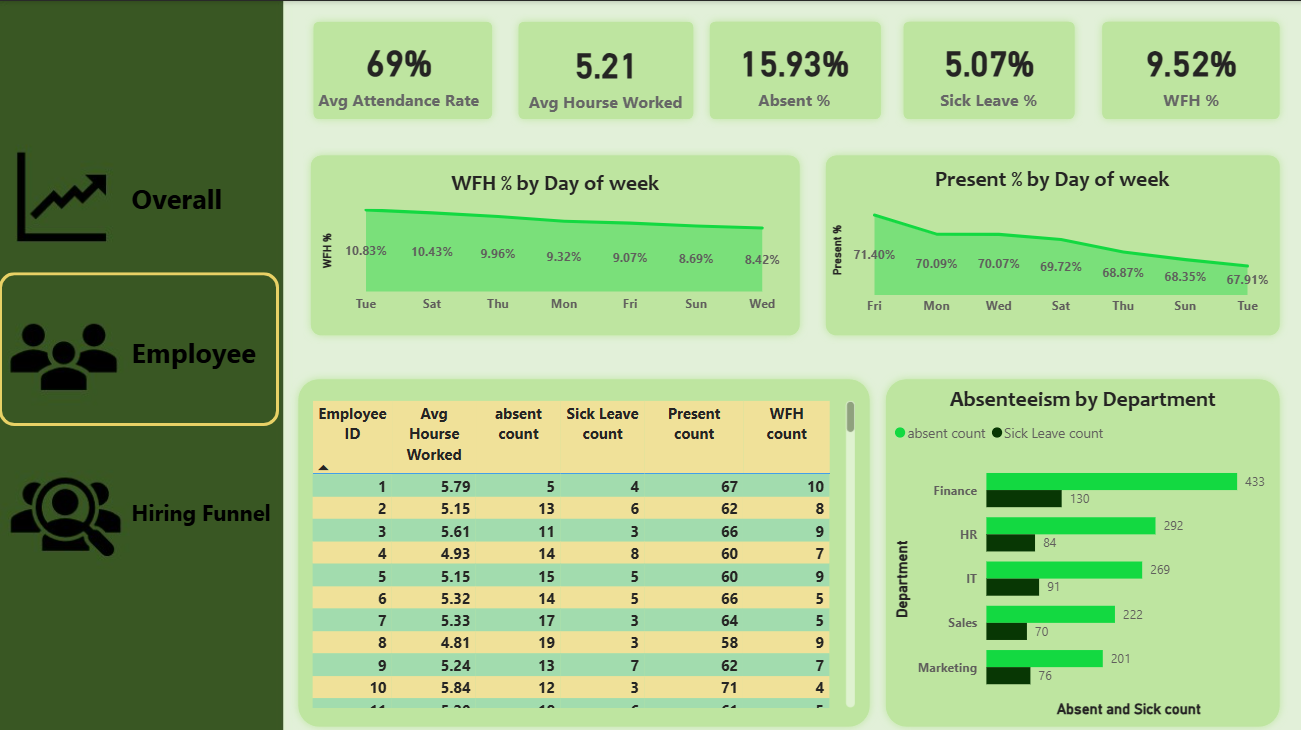

What the dashboard file says about the page in this screenshot:
{"tool":"powerbi","page":{"name":"Page 3","canvas":[1280,720],"ordinal":1},"visuals":[{"type":"textbox","box":[125.2,170.6,120.2,49.1],"z":0},{"type":"textbox","box":[125.2,321.5,137.4,54],"z":1000},{"type":"textbox","box":[125.2,482.2,149.7,41.7],"z":2000},{"type":"actionButton","box":[0,417.2,274.8,150.9],"z":3000},{"type":"actionButton","box":[0,123.9,274.8,142.3],"z":4000},{"type":"shape","box":[300.6,12.3,191.4,111.7],"z":5000},{"type":"card","fields":{"Values":["Measures (2).Avg Attendance Rate"]},"box":[298.2,23.3,189,92],"z":6000},{"type":"shape","box":[501.8,12.3,187.7,111.7],"z":7000},{"type":"shape","box":[689.6,12.3,184.1,111.7],"z":8000},{"type":"shape","box":[879.8,12.3,184.1,111.7],"z":9000},{"type":"shape","box":[1074.9,12.3,190.2,111.7],"z":10000},{"type":"card","fields":{"Values":["Measures (2).Avg Hourse Worked"]},"box":[511.7,16,168.1,111.7],"z":11000},{"type":"card","fields":{"Values":["Measures (2).Absent %"]},"box":[710.4,16,141.1,108],"z":12000},{"type":"card","fields":{"Values":["Measures (2).Sick Leave %"]},"box":[893.3,16,157.1,108],"z":13000},{"type":"card","fields":{"Values":["Measures (2).WFH %"]},"box":[1103.1,18.4,135,103.1],"z":14000},{"type":"shape","box":[285.9,363.2,576.7,357.1],"z":15000},{"type":"tableEx","fields":{"Values":["Attendance.EmployeeID","Measures (2).Avg Hourse Worked","Measures (2).absent count","Measures (2).Sick Leave count","Measures (2).Present count","Measures (2).WFH count"]},"box":[301.8,387.7,543.6,310.4],"z":16000},{"type":"shape","box":[803.7,143.6,461.4,192.6],"z":17000},{"type":"shape","box":[298.2,143.6,495.7,192.6],"z":18000},{"type":"shape","box":[862.6,363.2,402.5,357.1],"z":19000},{"type":"clusteredBarChart","title":"Absenteeism by Department","fields":{"Category":["dept.DepartmentName"],"Y":["Measures (2).absent count","Measures (2).Sick Leave count"]},"box":[873.6,377.9,380.4,330.1],"z":20000},{"type":"stackedAreaChart","fields":{"Category":["Attendance.Day of week"],"Y":["Measures (2).WFH %"]},"box":[311.7,165.6,468.7,149.7],"z":21000},{"type":"stackedAreaChart","fields":{"Y":["Measures (2).Present %"],"Category":["Attendance.Day of week"]},"box":[812.3,162,442.9,155.8],"z":22000},{"type":"actionButton","box":[0,266.3,274.8,150.9],"z":23000}]}

Visuals, with their boxes in screenshot pixels (x1, y1, x2, y2), scaled from the page's 1280x720 canvas onto the 1301x730 screenshot:
textbox: region(127, 173, 249, 223)
textbox: region(127, 326, 267, 381)
textbox: region(127, 489, 279, 531)
actionButton: region(0, 423, 279, 576)
actionButton: region(0, 126, 279, 270)
shape: region(306, 12, 500, 126)
card - Measures (2).Avg Attendance Rate: region(303, 24, 495, 117)
shape: region(510, 12, 701, 126)
shape: region(701, 12, 888, 126)
shape: region(894, 12, 1081, 126)
shape: region(1093, 12, 1286, 126)
card - Measures (2).Avg Hourse Worked: region(520, 16, 691, 129)
card - Measures (2).Absent %: region(722, 16, 865, 126)
card - Measures (2).Sick Leave %: region(908, 16, 1068, 126)
card - Measures (2).WFH %: region(1121, 19, 1258, 123)
shape: region(291, 368, 877, 729)
tableEx - Attendance.EmployeeID x Measures (2).Avg Hourse Worked: region(307, 393, 859, 708)
shape: region(817, 146, 1286, 341)
shape: region(303, 146, 807, 341)
shape: region(877, 368, 1286, 729)
"Absenteeism by Department" clusteredBarChart: region(888, 383, 1275, 718)
stackedAreaChart - Attendance.Day of week x Measures (2).WFH %: region(317, 168, 793, 320)
stackedAreaChart - Measures (2).Present % x Attendance.Day of week: region(826, 164, 1276, 322)
actionButton: region(0, 270, 279, 423)
